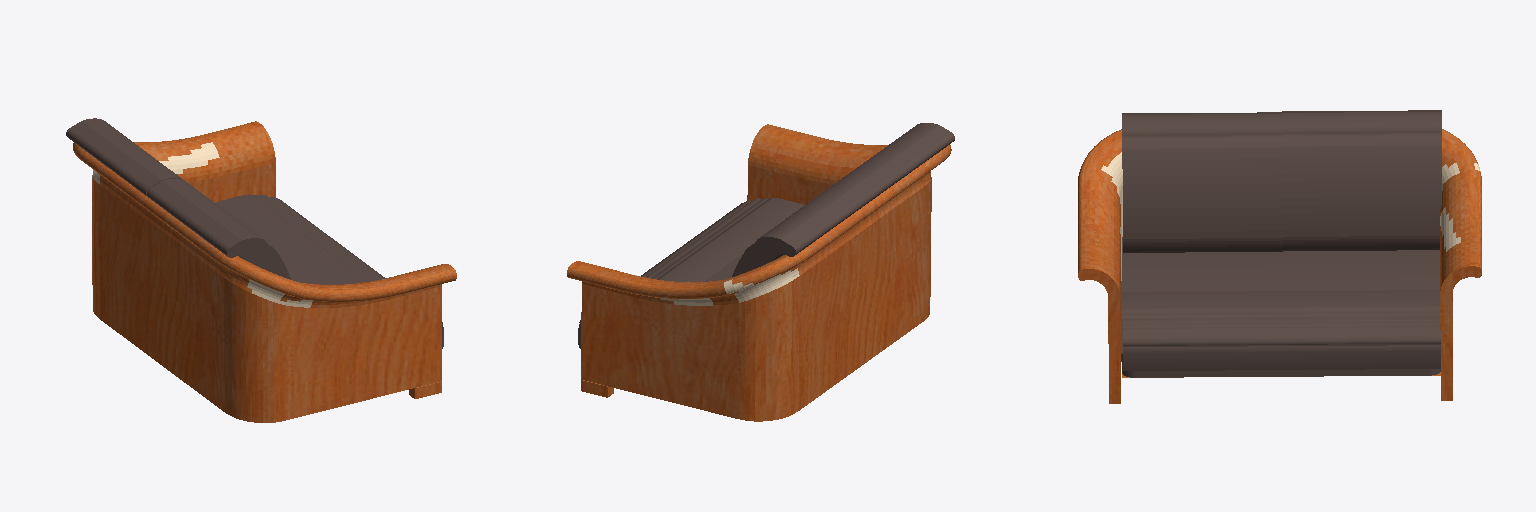
3 views of the same model, side by side, from view 1: azimuth 30°, elevation 25°; view 2: azimuth 150°, elevation 25°; view 3: azimuth 270°, elevation 25° (orthographic).
Parts seen in each view (by area): view 1: Mesh6 canap__manhattan1 Model, Mesh2 Group2 canap__manhattan1 Model, Mesh4 Group4 canap__manhattan1 Model, Mesh5 Group5 canap__manhattan1 Model, Mesh3 Group3 canap__manhattan1 Model; view 2: Mesh6 canap__manhattan1 Model, Mesh5 Group5 canap__manhattan1 Model, Mesh3 Group3 canap__manhattan1 Model, Mesh2 Group2 canap__manhattan1 Model, Mesh4 Group4 canap__manhattan1 Model; view 3: Mesh2 Group2 canap__manhattan1 Model, Mesh5 Group5 canap__manhattan1 Model, Mesh3 Group3 canap__manhattan1 Model, Mesh4 Group4 canap__manhattan1 Model, Mesh6 canap__manhattan1 Model, Mesh1 Group1 canap__manhattan1 Model.
Boxes of the visible parts, box(x1,y1,x2,y2) form: Mesh6 canap__manhattan1 Model: box(73, 121, 456, 422); Mesh2 Group2 canap__manhattan1 Model: box(147, 178, 290, 279); Mesh4 Group4 canap__manhattan1 Model: box(216, 194, 357, 263); Mesh5 Group5 canap__manhattan1 Model: box(66, 118, 181, 195); Mesh3 Group3 canap__manhattan1 Model: box(285, 253, 443, 348); Mesh6 canap__manhattan1 Model: box(567, 124, 951, 421); Mesh5 Group5 canap__manhattan1 Model: box(732, 180, 875, 276); Mesh3 Group3 canap__manhattan1 Model: box(663, 198, 804, 264); Mesh2 Group2 canap__manhattan1 Model: box(839, 123, 954, 197); Mesh4 Group4 canap__manhattan1 Model: box(578, 255, 736, 348); Mesh2 Group2 canap__manhattan1 Model: box(1122, 112, 1282, 252); Mesh5 Group5 canap__manhattan1 Model: box(1282, 110, 1441, 250); Mesh3 Group3 canap__manhattan1 Model: box(1122, 237, 1282, 370); Mesh4 Group4 canap__manhattan1 Model: box(1282, 250, 1440, 369); Mesh6 canap__manhattan1 Model: box(1078, 129, 1481, 403); Mesh1 Group1 canap__manhattan1 Model: box(1121, 281, 1440, 377).
Size of the model in its own units: 40.5 by 34.96 by 64.77.
Materials: 3 (1 with a texture image).